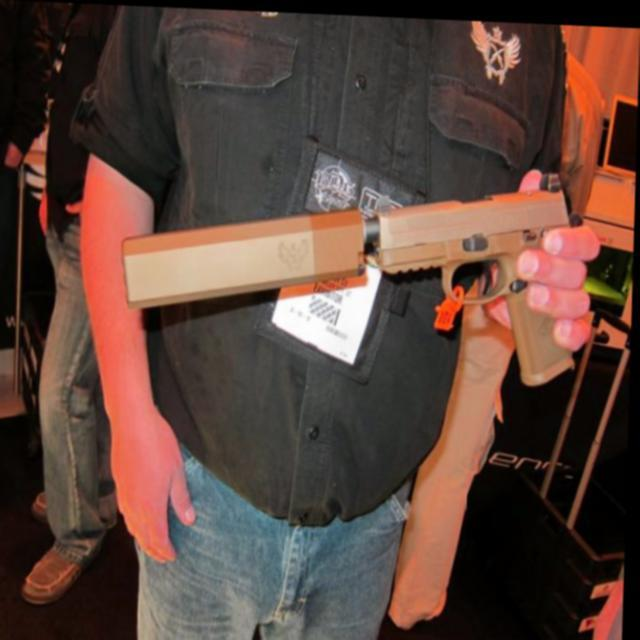weapon: (119, 151, 589, 384)
